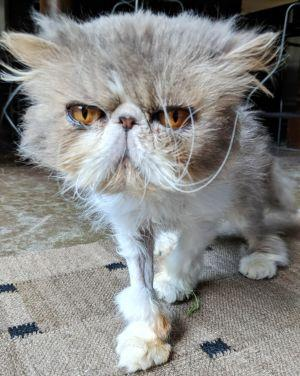persian: (1, 5, 293, 230)
